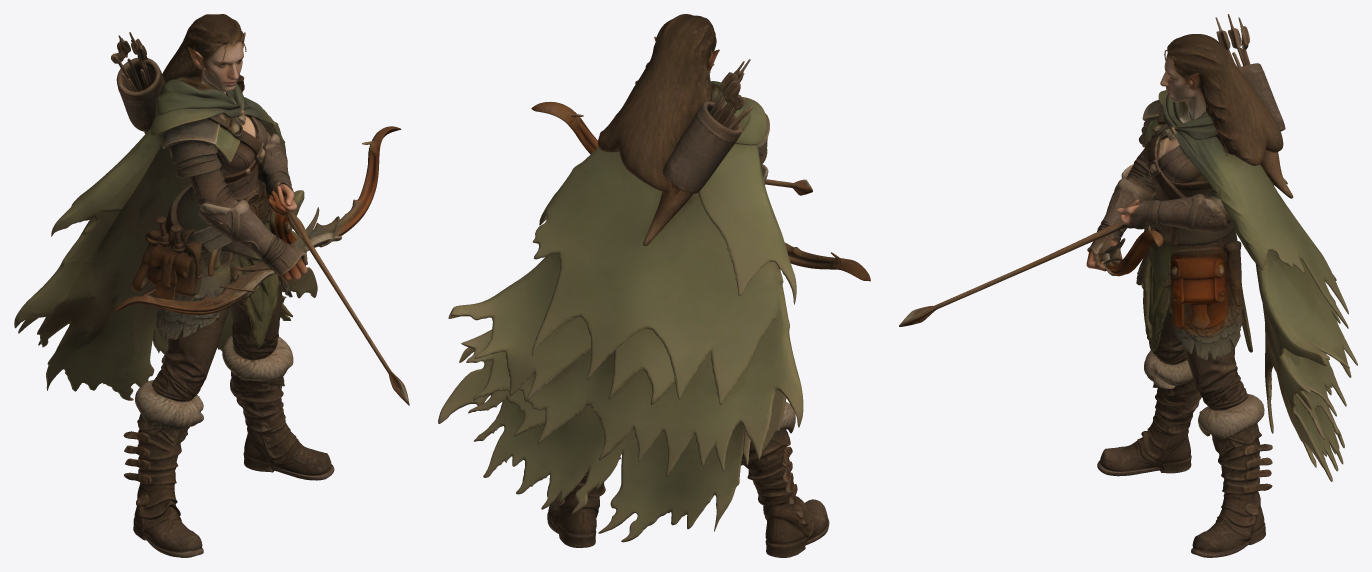
File: half_elf_ranger_full_female_01.glb
3 renders of one model, left to right at view 1: azimuth 30°, elevation 25°; view 2: azimuth 150°, elevation 25°; view 3: azimuth 270°, elevation 25°, orthographic. The views are drawn at different scales.
Visible parts, largest first — view 1: material; view 2: material; view 3: material.
Boxes of the visible parts, left/top/right/bottom form: material: left=14, top=14, right=409, bottom=557; material: left=438, top=14, right=870, bottom=557; material: left=899, top=14, right=1357, bottom=557.
Bounding box in the file's own units: 0.712 × 1.04 × 0.9208.
1 material, 1 textured.
